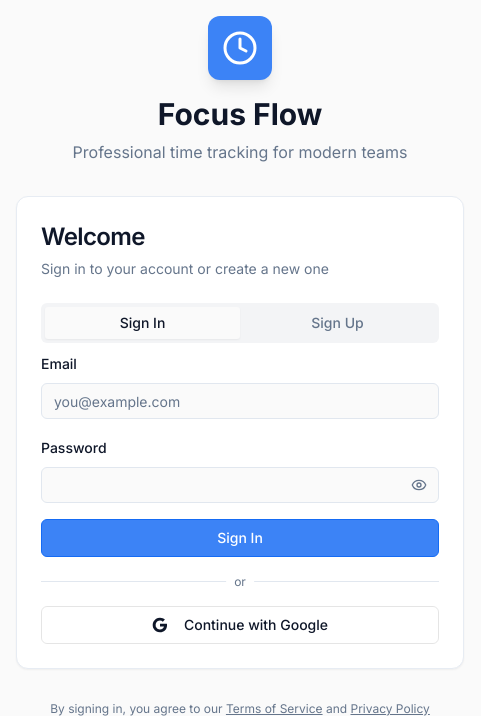
Scenario: Login Page › Tab Switching › should switch from signin to signup tab
Expected: the field with test id "input-signin-email" is shown, [41, 383, 439, 419]
Click the tab with test id "tab-signup": [338, 323] box [240, 307, 435, 339]
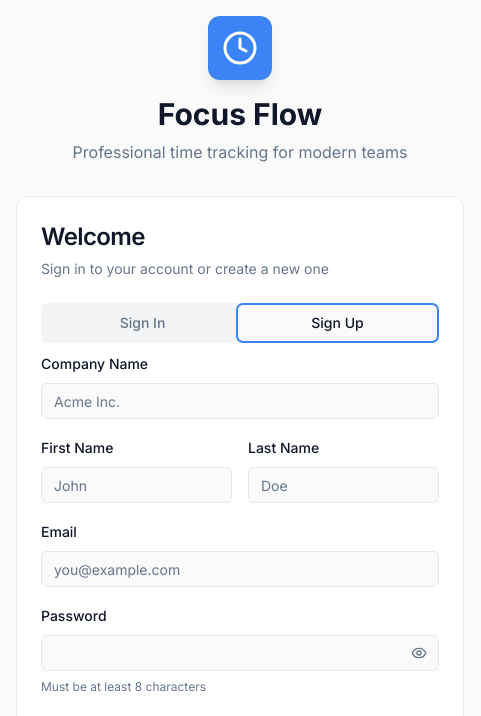
Now the field with test id "input-signup-email" is shown, box [41, 551, 439, 587]
Now the field with test id "input-signin-email" is gone
